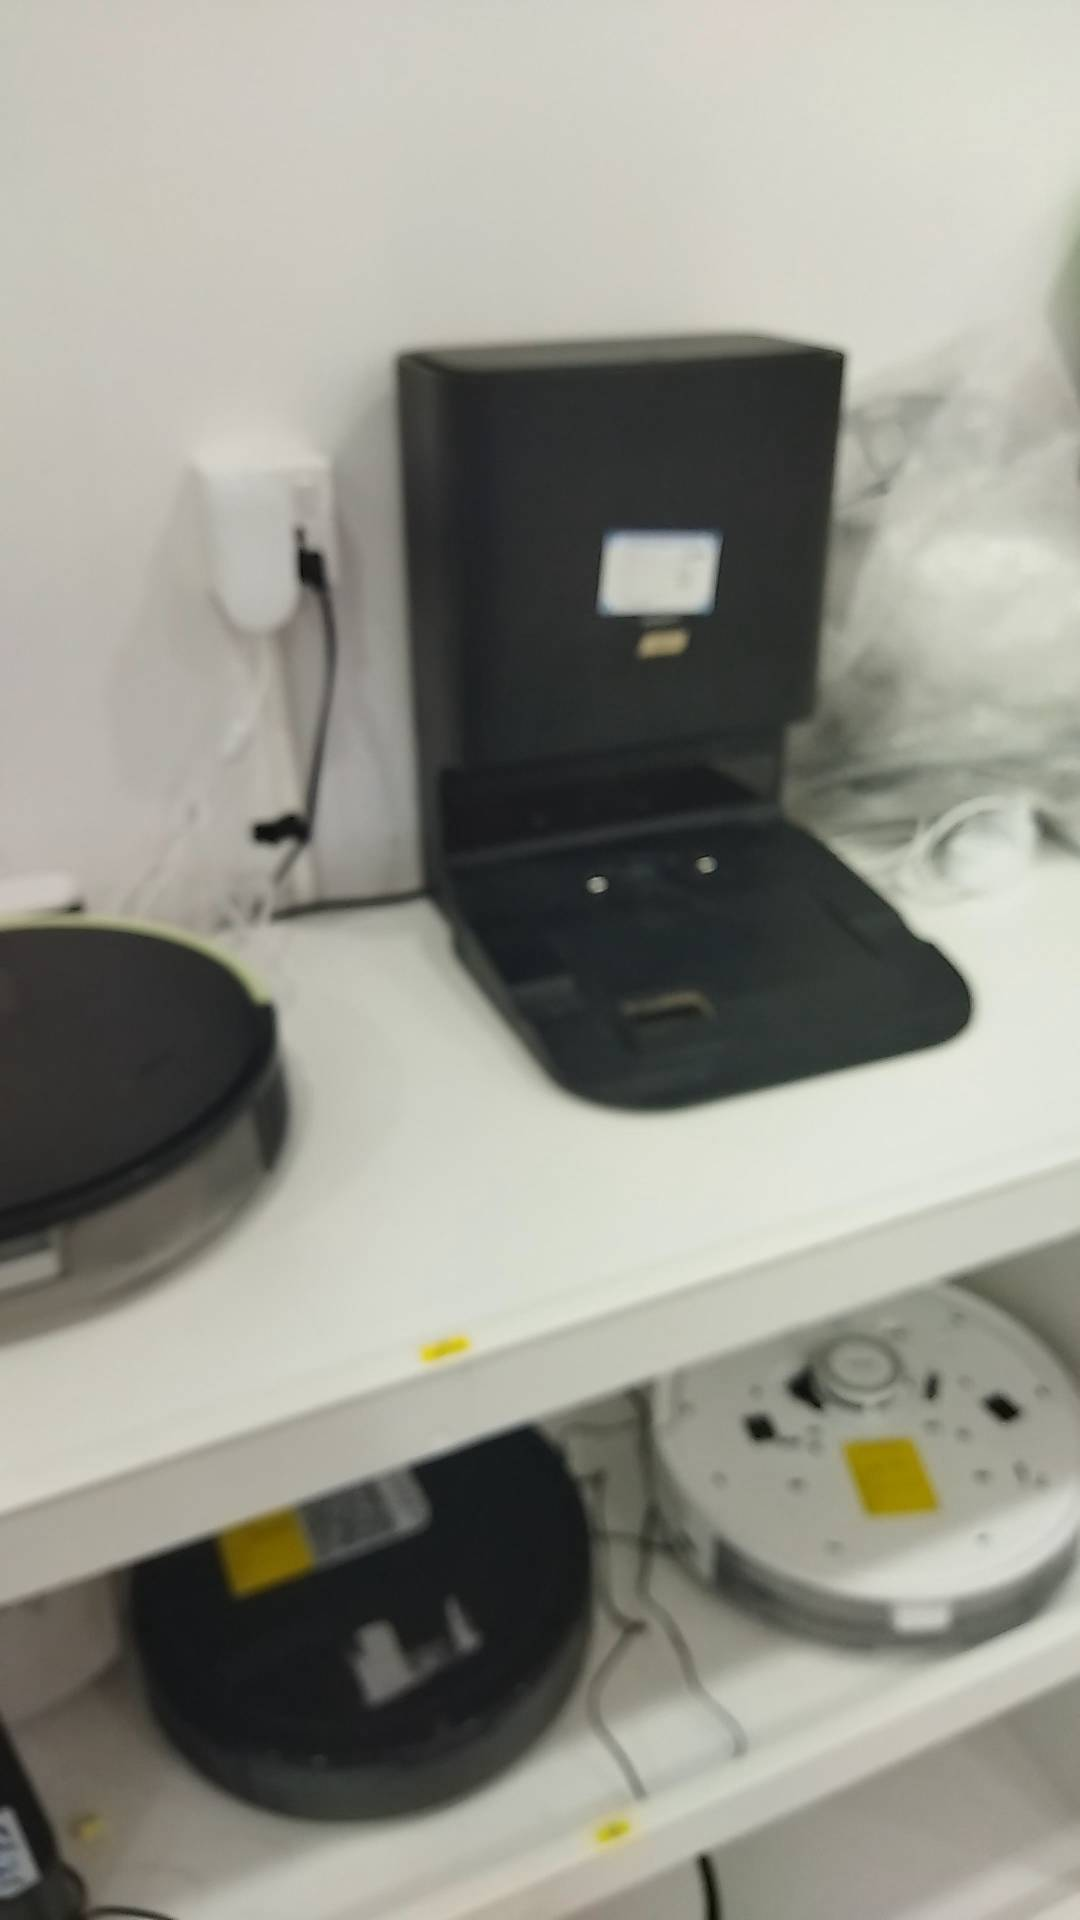dust collecting barrel: (393, 334, 971, 1116)
